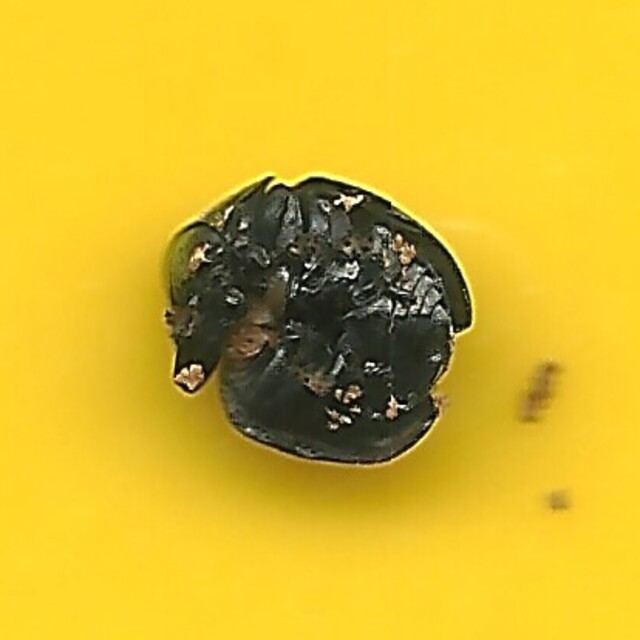Coleoptera: (155, 168, 485, 472)
